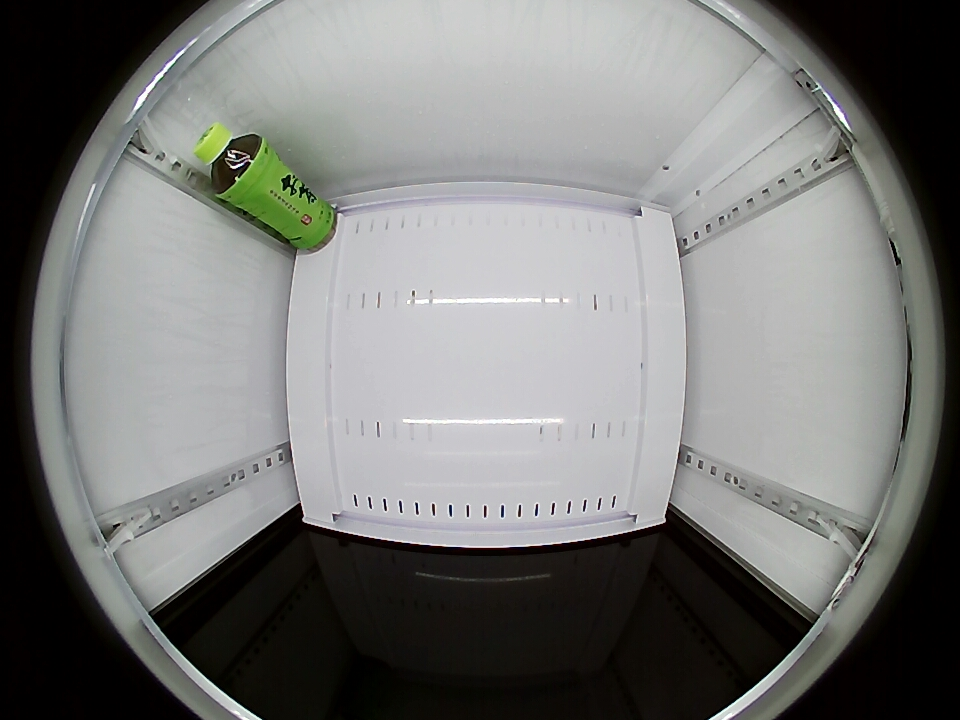yitengyuan: (194, 124, 269, 200)
